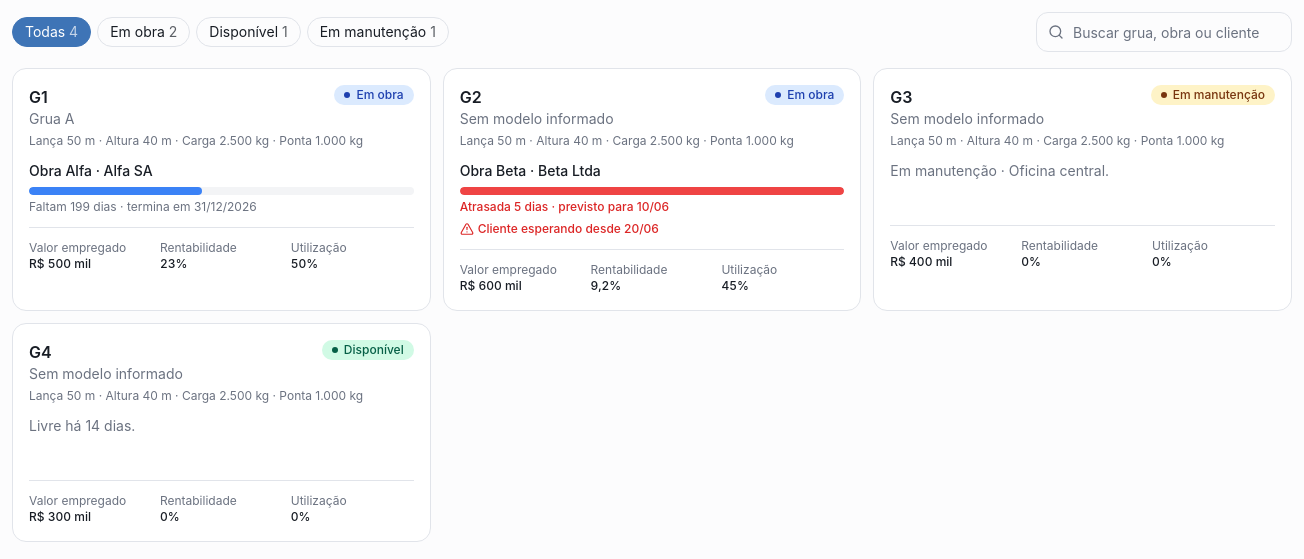
Test case: aba Gruas › busca por grua, obra ou cliente
The image size is (1304, 559).
Type "beta" into the field labelled "Buscar grua, obra ou cliente" at (1164, 32), box top-left (1036, 12), bottom-right (1292, 52)
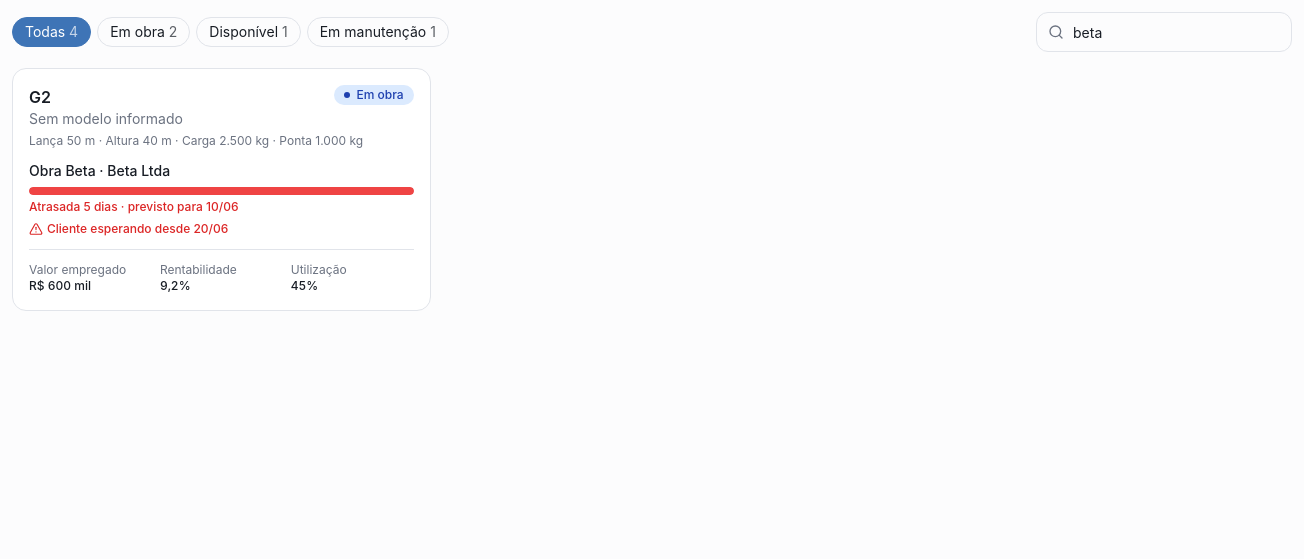
Check: the text "G2" is shown, box top-left (29, 87), bottom-right (51, 107)
Check: the number of links is 1, box top-left (12, 68), bottom-right (431, 311)
Replace the text in the field named "Buscar grua, obra ou cliente" with "nada disso" at (1164, 32), box top-left (1036, 12), bottom-right (1292, 52)
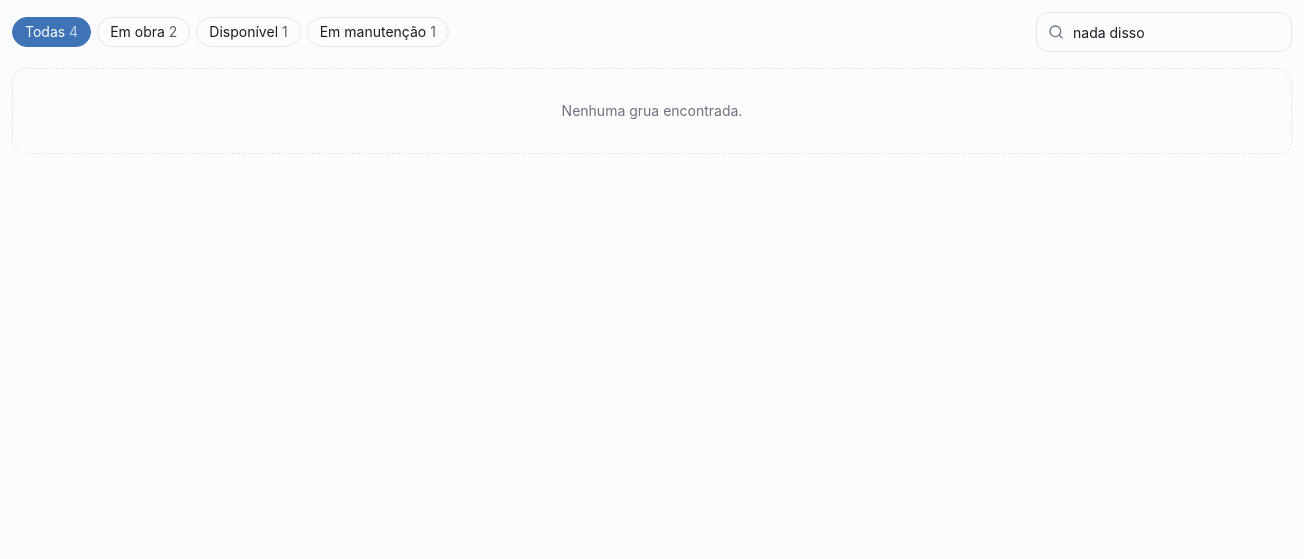
Check: the text "Nenhuma grua encontrada." is shown, box top-left (12, 68), bottom-right (1292, 154)
